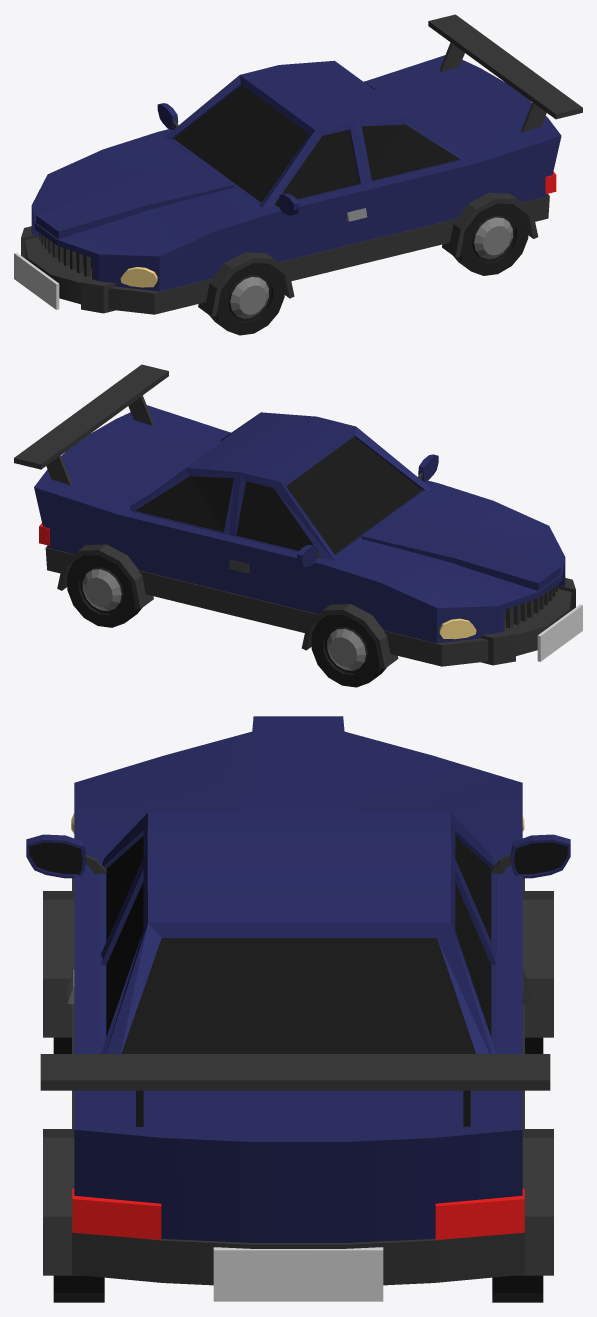
Rendered from SM_car_town_03.fbx.
3 renders of one model, top to bottom at view 1: azimuth 30°, elevation 25°; view 2: azimuth 150°, elevation 25°; view 3: azimuth 270°, elevation 25°, orthographic. The views are drawn at different scales.
Parts seen in each view (by area): view 1: Box098; view 2: Box098; view 3: Box098.
Boxes of the visible parts, x1,y1,x2,y2 form: Box098: (14,14,582,335); Box098: (14,364,582,687); Box098: (26,716,570,1302).
Bounding box in the file's own units: 167 × 54.63 × 81.4.
